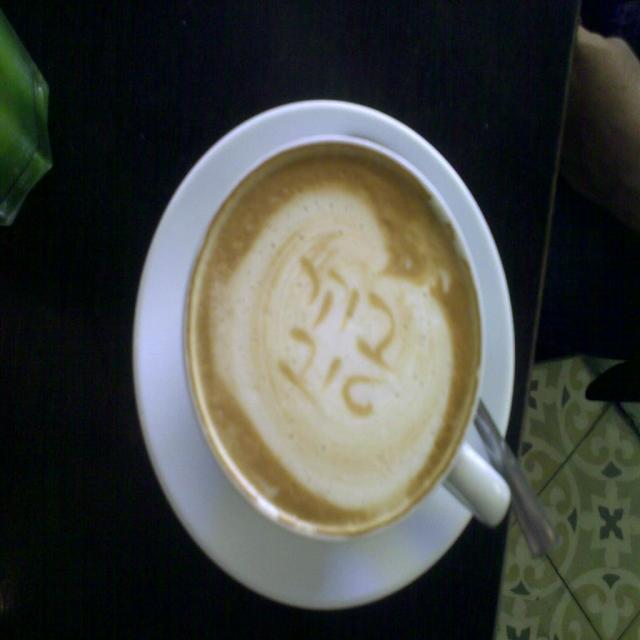Coffee: (168, 139, 496, 578)
